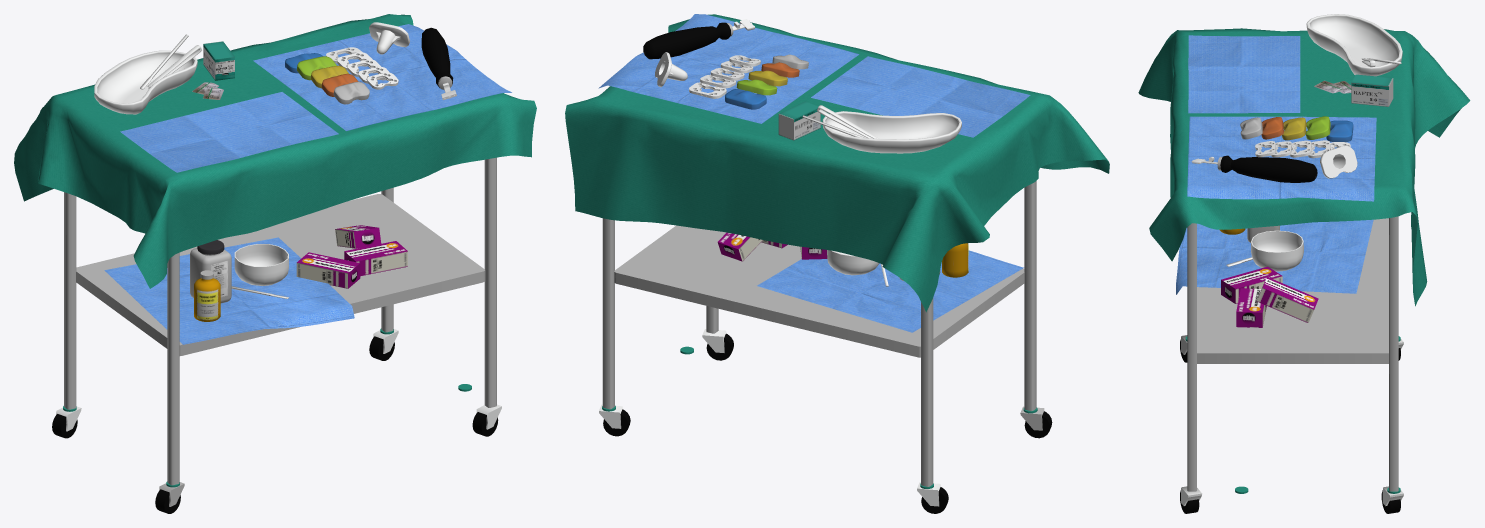
File: ImplantsTable.obj
The picture shows the model from 3 angles, left to right: view 1: azimuth 30°, elevation 25°; view 2: azimuth 150°, elevation 25°; view 3: azimuth 270°, elevation 25°; orthographic projection. The views are drawn at different scales.
Parts seen in each view (by area): view 1: ImplantsTable1:ImplantsTable; view 2: ImplantsTable1:ImplantsTable; view 3: ImplantsTable1:ImplantsTable.
Boxes of the visible parts, bbox=[...] form: ImplantsTable1:ImplantsTable: bbox=[14, 14, 536, 513]; ImplantsTable1:ImplantsTable: bbox=[565, 14, 1109, 513]; ImplantsTable1:ImplantsTable: bbox=[1138, 14, 1470, 513].
Bounding box in the file's own units: 1.13 × 0.9525 × 0.7993.
1 material, 1 textured.
